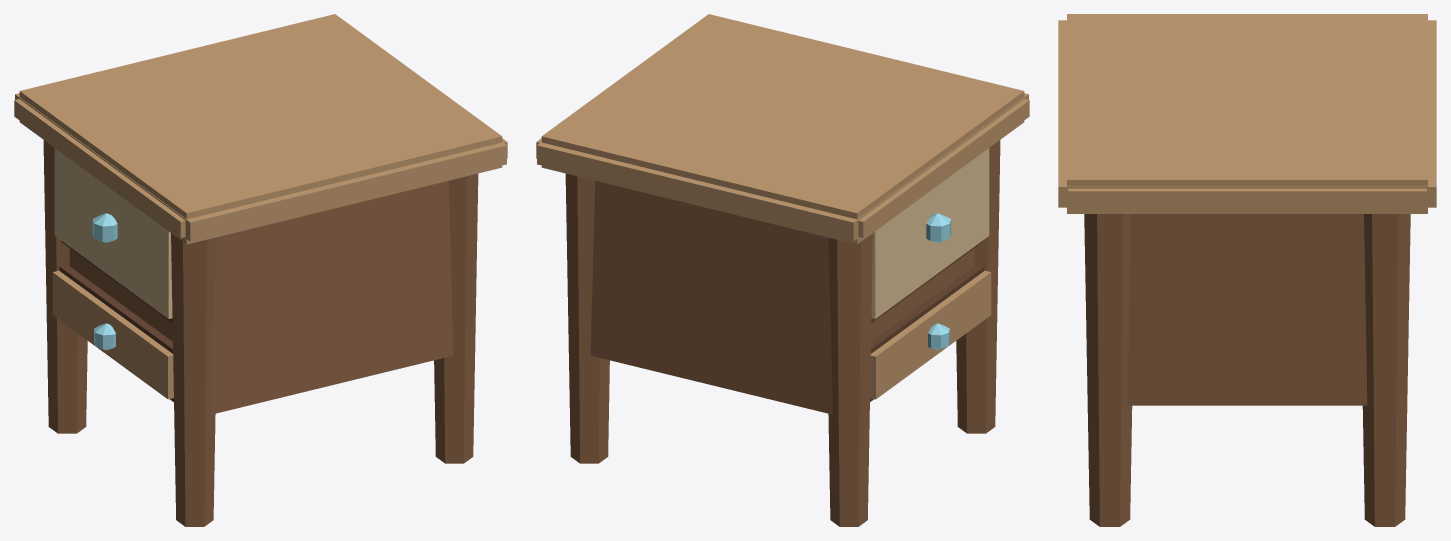
Rendered from deco_furn_bedside.obj.
3 renders of one model, left to right at view 1: azimuth 30°, elevation 25°; view 2: azimuth 150°, elevation 25°; view 3: azimuth 270°, elevation 25°, orthographic. The views are drawn at different scales.
Parts seen in each view (by area): view 1: deco_furn_bedside; view 2: deco_furn_bedside; view 3: deco_furn_bedside.
Part boxes in pixels (bbox=[...]): deco_furn_bedside: bbox=[14, 14, 507, 526]; deco_furn_bedside: bbox=[536, 14, 1029, 526]; deco_furn_bedside: bbox=[1058, 14, 1436, 526].
Bounding box in the file's own units: 0.5091 × 0.483 × 0.468.
Materials: 1 (1 with a texture image).
